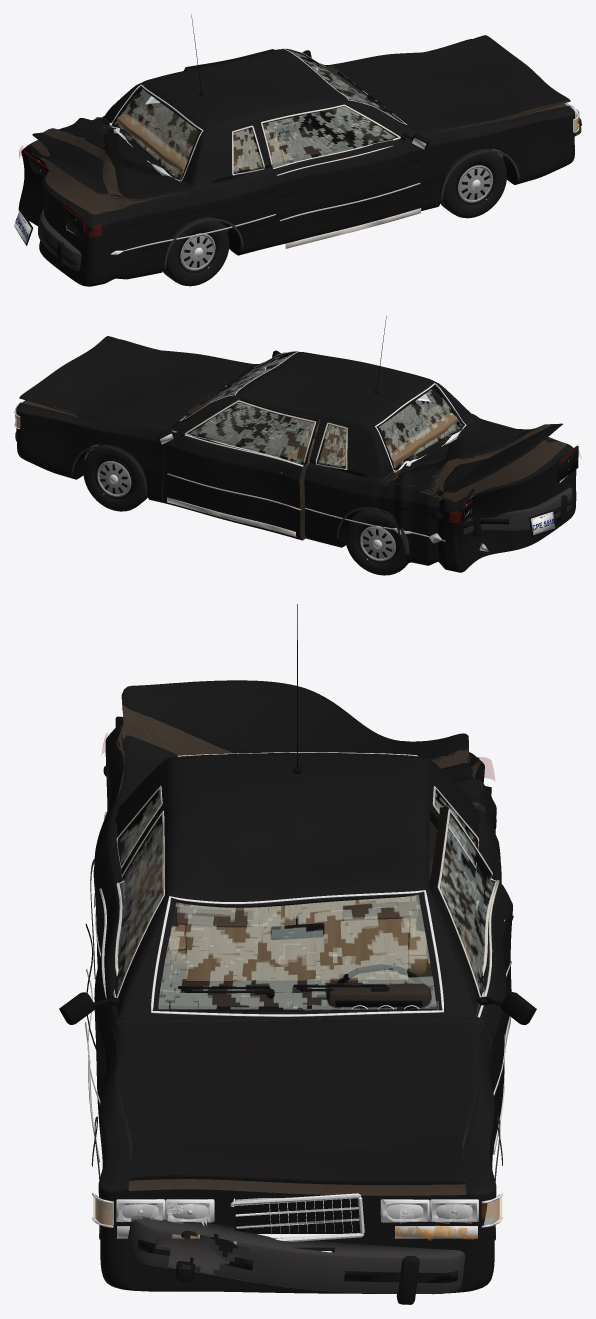
File: coupe84_rear_corner_d1_lod1.glb
3 views of the same model, one above another, from view 1: azimuth 30°, elevation 25°; view 2: azimuth 150°, elevation 25°; view 3: azimuth 270°, elevation 25° (orthographic). The views are drawn at different scales.
Parts seen in each view (by area): view 1: Body, Hood, Door_FR, Trunk, Interior, Glass, Glass_FR, Wheel_FR_mesh, Wheel_RR_mesh, Trim_FR, Trim, Ends (+2 smaller); view 2: Body, Hood, Door_FL, Trunk, Interior, Glass, Wheel_FL_mesh, Wheel_RL_mesh, Glass_FL, Trim_FL, Trim, Bumper_R (+2 smaller); view 3: Body, Hood, Interior, Glass, Trunk, Bumper_F, Ends, Door_FL, Door_FR, Glass_FL, Trim, Trim_FL (+4 smaller).
Boxes of the visible parts, x1=… form: Body: x1=18, y1=39, x2=574, y2=286; Hood: x1=328, y1=35, x2=570, y2=136; Door_FR: x1=260, y1=104, x2=424, y2=245; Trunk: x1=32, y1=118, x2=191, y2=201; Interior: x1=117, y1=66, x2=393, y2=175; Glass: x1=109, y1=48, x2=406, y2=181; Glass_FR: x1=261, y1=104, x2=397, y2=169; Wheel_FR_mesh: x1=440, y1=148, x2=506, y2=218; Wheel_RR_mesh: x1=162, y1=217, x2=229, y2=286; Trim_FR: x1=260, y1=104, x2=429, y2=248; Trim: x1=110, y1=14, x2=519, y2=268; Ends: x1=14, y1=82, x2=579, y2=245; Body: x1=16, y1=339, x2=576, y2=572; Hood: x1=19, y1=336, x2=255, y2=432; Door_FL: x1=163, y1=398, x2=318, y2=540; Trunk: x1=385, y1=417, x2=562, y2=495; Interior: x1=186, y1=372, x2=457, y2=467; Glass: x1=179, y1=351, x2=466, y2=472; Wheel_FL_mesh: x1=83, y1=444, x2=147, y2=511; Wheel_RL_mesh: x1=345, y1=509, x2=408, y2=575; Glass_FL: x1=188, y1=400, x2=316, y2=467; Trim_FL: x1=156, y1=400, x2=316, y2=536; Trim: x1=71, y1=316, x2=445, y2=554; Bumper_R: x1=463, y1=487, x2=573, y2=536; Body: x1=94, y1=723, x2=500, y2=1293; Hood: x1=113, y1=1020, x2=481, y2=1184; Interior: x1=158, y1=895, x2=436, y2=1009; Glass: x1=120, y1=752, x2=475, y2=1016; Trunk: x1=115, y1=680, x2=483, y2=806; Bumper_F: x1=126, y1=1215, x2=465, y2=1304; Ends: x1=92, y1=716, x2=503, y2=1284; Door_FL: x1=428, y1=807, x2=512, y2=1154; Door_FR: x1=94, y1=809, x2=165, y2=1149; Glass_FL: x1=436, y1=815, x2=496, y2=991; Trim: x1=90, y1=604, x2=502, y2=1240; Trim_FL: x1=437, y1=808, x2=536, y2=1154.
Bounding box in the file's own units: 5.19 × 2.15 × 2.13.
34 materials, 5 textured.
